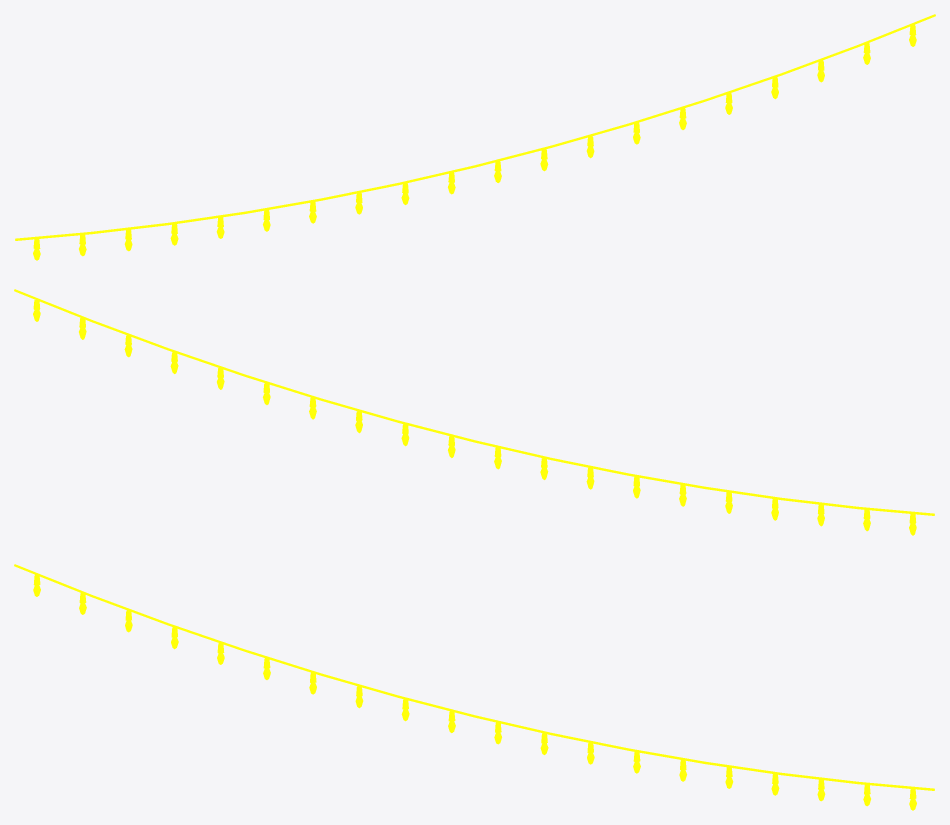
The model's file is light-string-color-big-5m-christmas.glb.
3 views of the same model, one above another, from view 1: azimuth 30°, elevation 25°; view 2: azimuth 150°, elevation 25°; view 3: azimuth 330°, elevation 25° (orthographic).
Visible parts, largest first — view 1: light_string_color_big_5m_christmas; view 2: light_string_color_big_5m_christmas; view 3: light_string_color_big_5m_christmas.
Boxes of the visible parts, box(x1,y1,x2,y2) form: light_string_color_big_5m_christmas: box(15, 14, 935, 260); light_string_color_big_5m_christmas: box(14, 289, 934, 535); light_string_color_big_5m_christmas: box(14, 564, 934, 810).
Bounding box in the file's own units: 5 × 0.3247 × 0.0357.
Materials: 2 (2 with a texture image).
